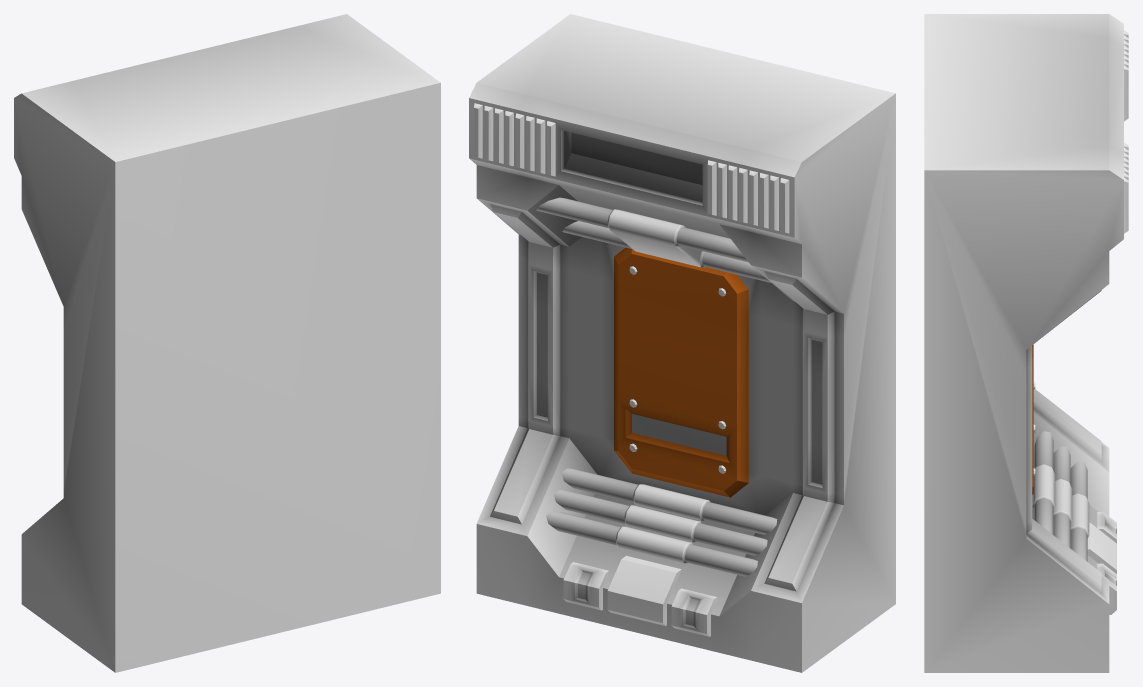
The model's file is wallSingle_A.FBX.
3 renders of one model, left to right at view 1: azimuth 30°, elevation 25°; view 2: azimuth 150°, elevation 25°; view 3: azimuth 270°, elevation 25°, orthographic.
Parts seen in each view (by area): view 1: wallSingle_A; view 2: wallSingle_A; view 3: wallSingle_A.
Boxes of the visible parts, box(x1,y1,x2,y2) form: wallSingle_A: box(14, 14, 440, 672); wallSingle_A: box(469, 14, 895, 672); wallSingle_A: box(924, 14, 1128, 672).
Size of the model in its own units: 2 by 3 by 1.1.
